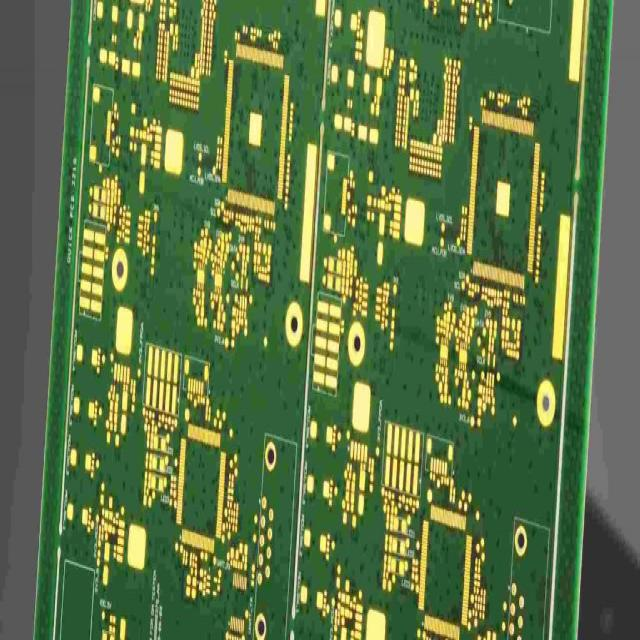pcb: (32, 0, 613, 637)
